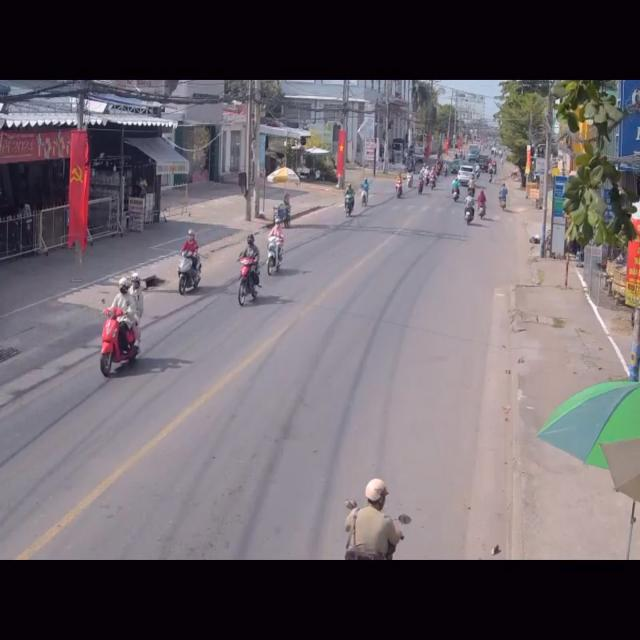motorbike: (342, 475, 407, 559), (100, 284, 142, 384), (235, 237, 260, 310), (181, 230, 205, 297), (268, 231, 285, 279), (345, 182, 357, 220), (395, 170, 405, 200)
